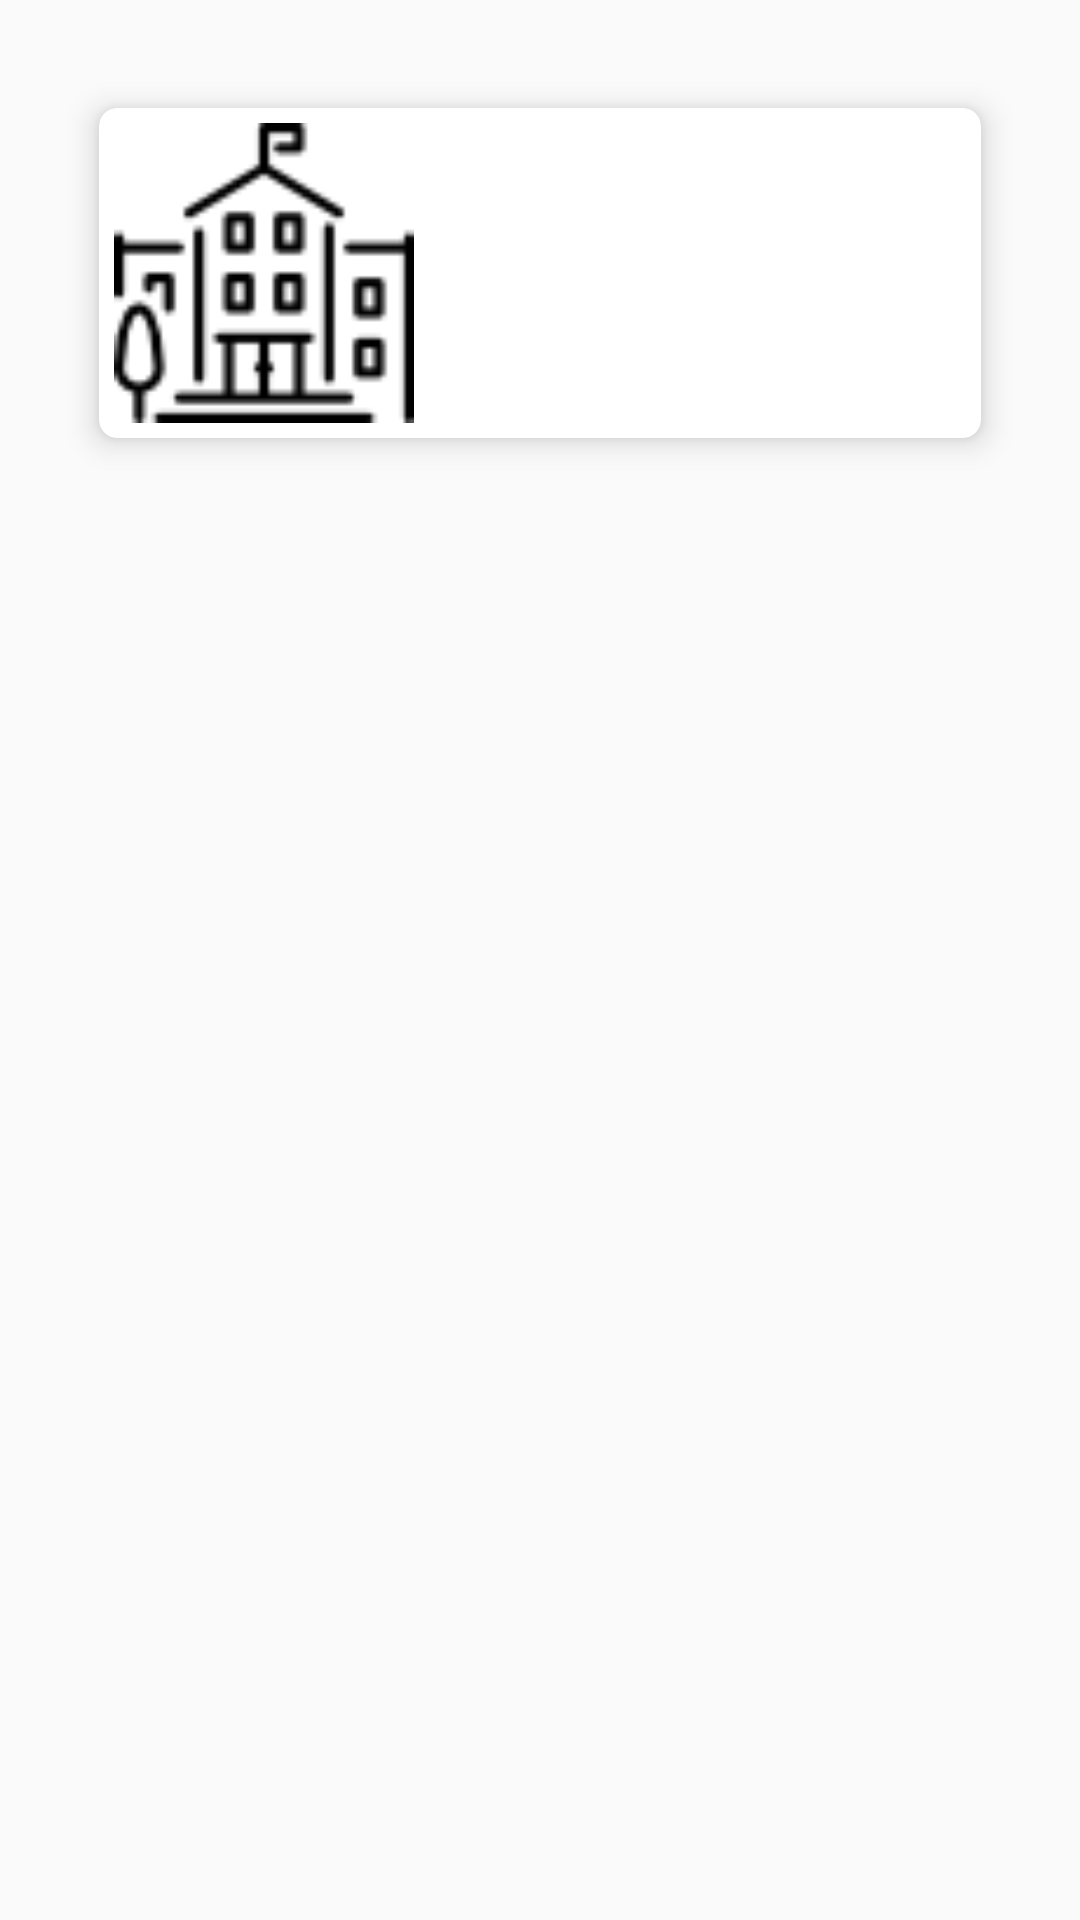

Icons on this 1080×1920 Android screen, each with the point to tap as [x,y]:
university: [264,273]
